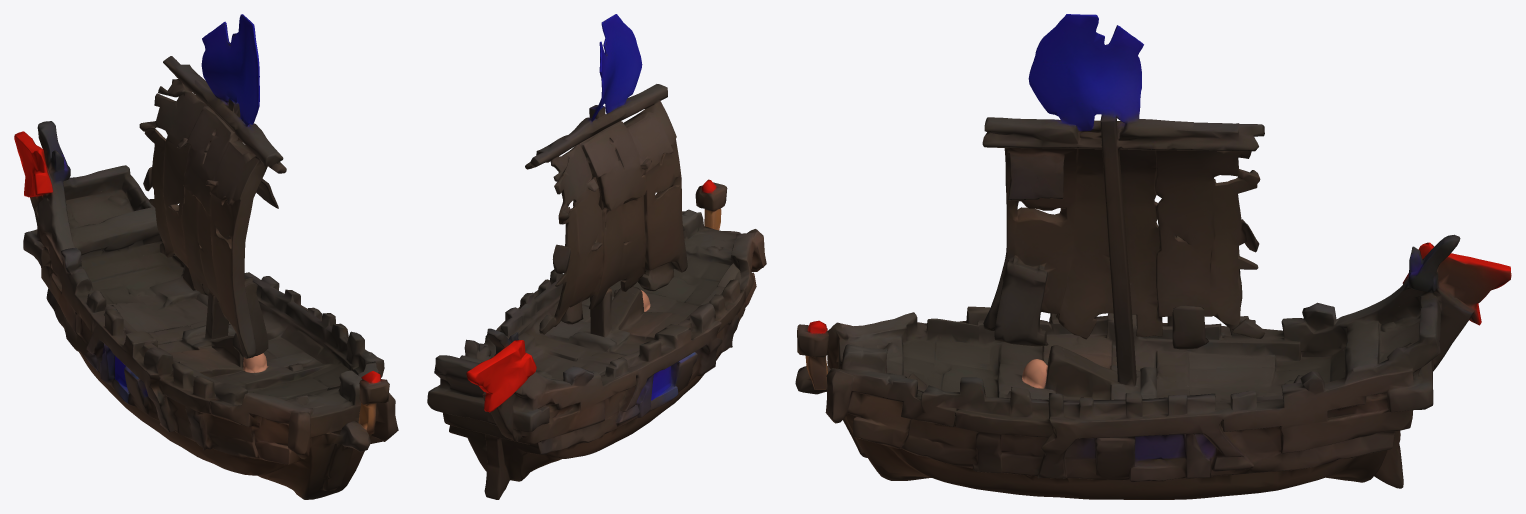
The model's file is ship_pirate.glb.
The picture shows the model from 3 angles, left to right: view 1: azimuth 30°, elevation 25°; view 2: azimuth 150°, elevation 25°; view 3: azimuth 270°, elevation 25°; orthographic projection. The views are drawn at different scales.
Visible parts, largest first — view 1: tripo_node_4830e959-c6f3-44b3-9f7d-cf297e10c315; view 2: tripo_node_4830e959-c6f3-44b3-9f7d-cf297e10c315; view 3: tripo_node_4830e959-c6f3-44b3-9f7d-cf297e10c315.
Part boxes in pixels (x1,y1,x2,y2): tripo_node_4830e959-c6f3-44b3-9f7d-cf297e10c315: [14, 14, 398, 499]; tripo_node_4830e959-c6f3-44b3-9f7d-cf297e10c315: [427, 14, 766, 499]; tripo_node_4830e959-c6f3-44b3-9f7d-cf297e10c315: [795, 14, 1511, 499].
Size of the model in its own units: 0.3571 by 0.7362 by 1.
1 material, 1 textured.
